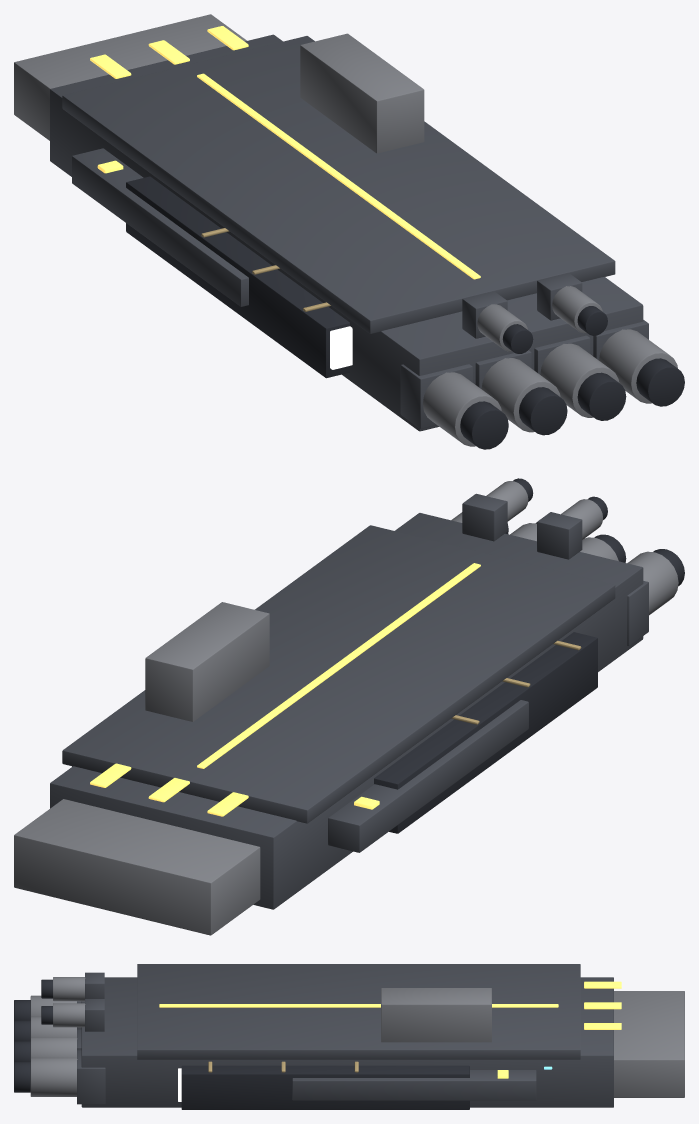
The model's file is carrier.glb.
The picture shows the model from 3 angles, top to bottom: view 1: azimuth 30°, elevation 25°; view 2: azimuth 150°, elevation 25°; view 3: azimuth 270°, elevation 25°; orthographic projection. The views are drawn at different scales.
Parts seen in each view (by area): view 1: carrier; view 2: carrier; view 3: carrier.
Boxes of the visible parts, box(x1,y1,x2,y2) form: carrier: box(14, 14, 684, 449); carrier: box(14, 478, 684, 935); carrier: box(14, 964, 684, 1109).
Size of the model in its own units: 10.8 by 4.95 by 30.25.
